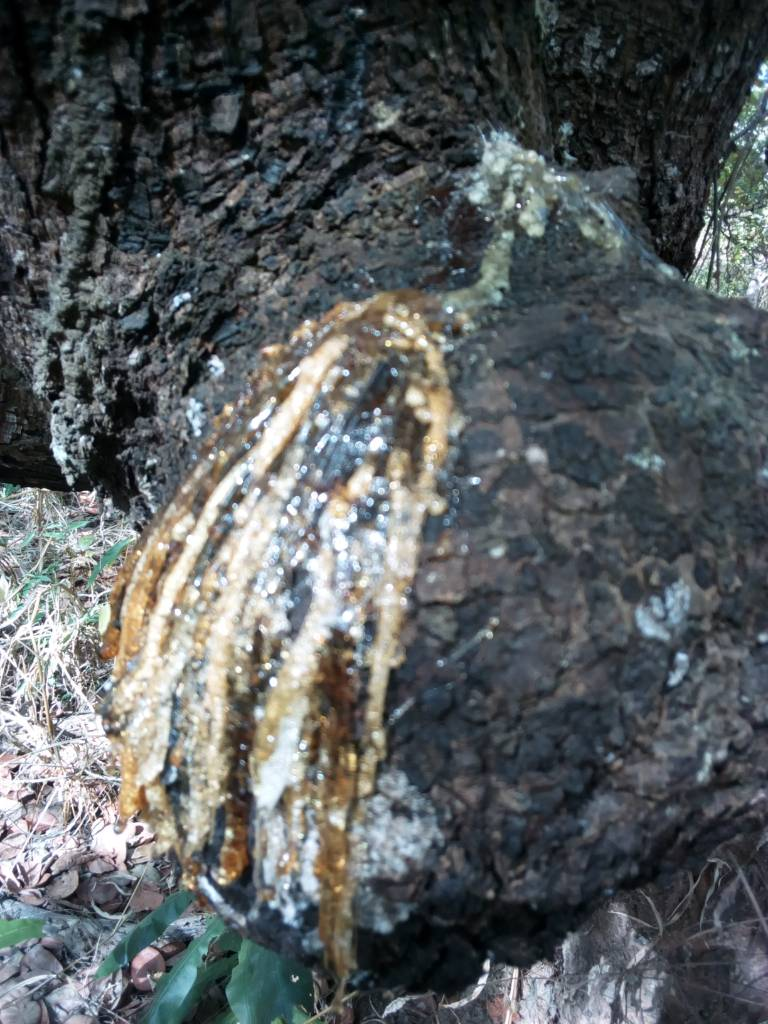Gommose: (121, 297, 440, 907)
